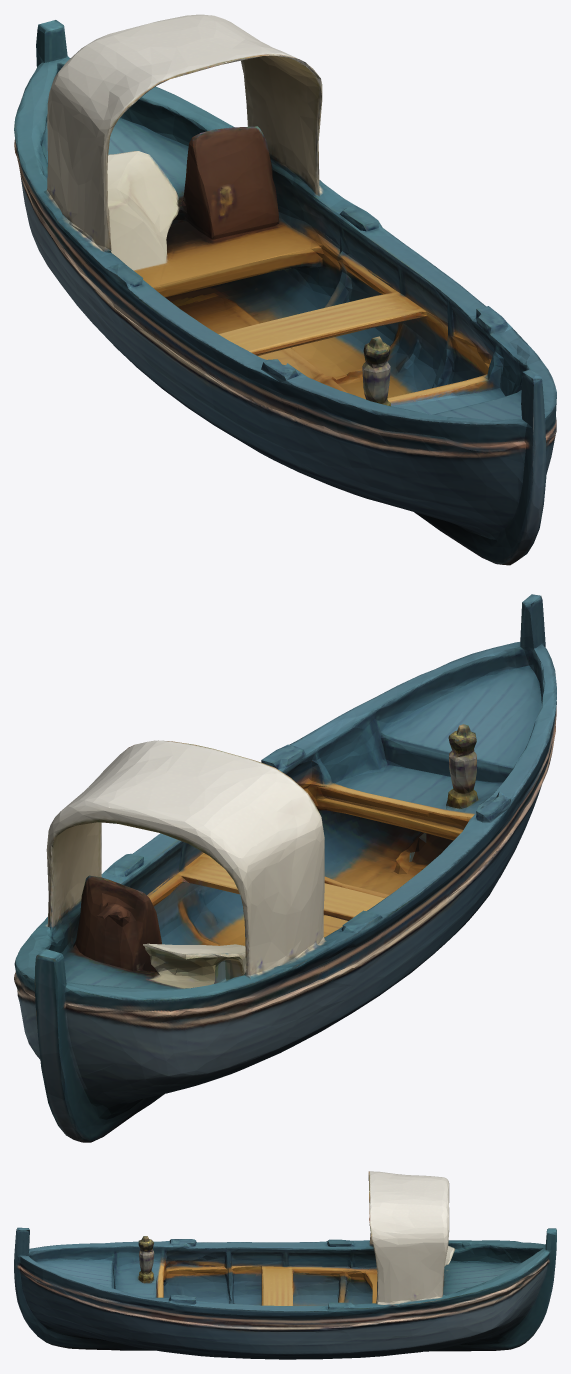
File: mailboat.glb
3 renders of one model, top to bottom at view 1: azimuth 30°, elevation 25°; view 2: azimuth 150°, elevation 25°; view 3: azimuth 270°, elevation 25°, orthographic. The views are drawn at different scales.
Visible parts, largest first — view 1: geometry_0; view 2: geometry_0; view 3: geometry_0.
Part boxes in pixels (x1,y1,x2,y2): geometry_0: [14, 14, 556, 565]; geometry_0: [14, 594, 556, 1142]; geometry_0: [14, 1171, 556, 1359].
Size of the model in its own units: 0.2978 by 0.3328 by 0.9934.
1 material, 1 textured.
